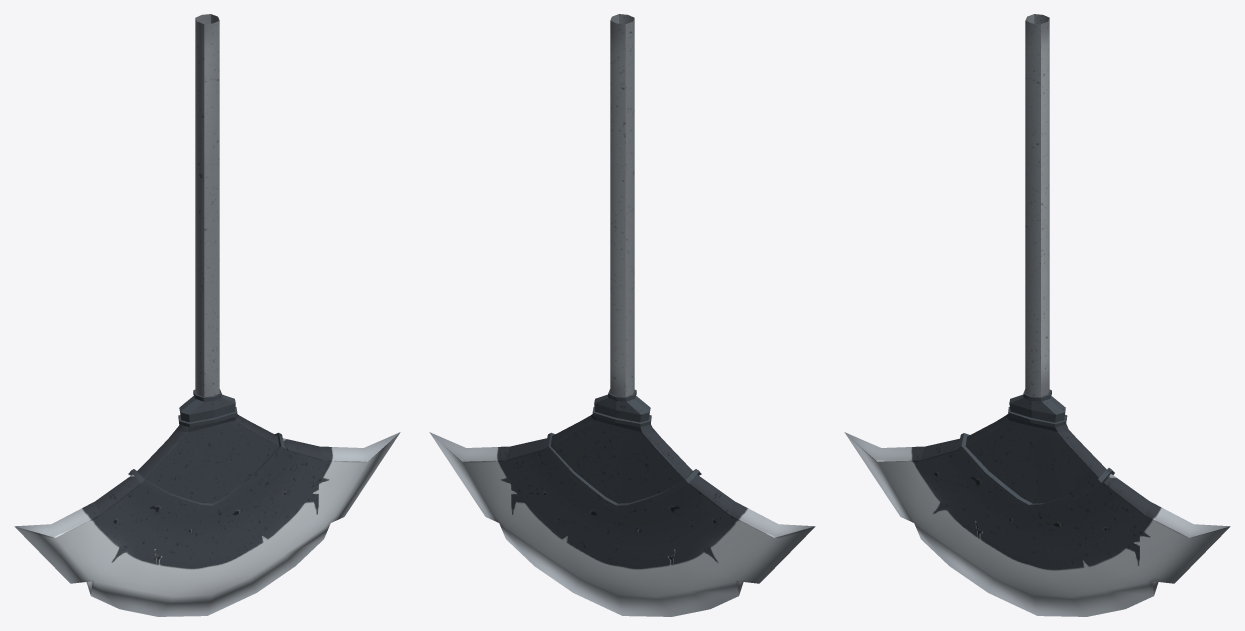
The model's file is Trap_1.fbx.
3 renders of one model, left to right at view 1: azimuth 30°, elevation 25°; view 2: azimuth 150°, elevation 25°; view 3: azimuth 330°, elevation 25°, orthographic.
Visible parts, largest first — view 1: Trap_1; view 2: Trap_1; view 3: Trap_1.
Boxes of the visible parts, x1,y1,x2,y2 form: Trap_1: (14,14,400,616); Trap_1: (429,14,815,616); Trap_1: (844,14,1230,616).
Bounding box in the file's own units: 0.0341 × 0.0502 × 0.00227.
Materials: 1 (1 with a texture image).
